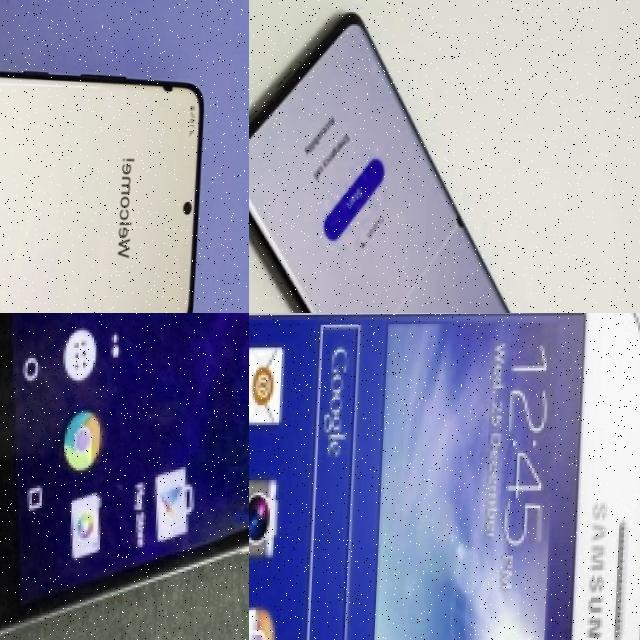dead pixel: (149, 67, 192, 118), (449, 192, 477, 244)
